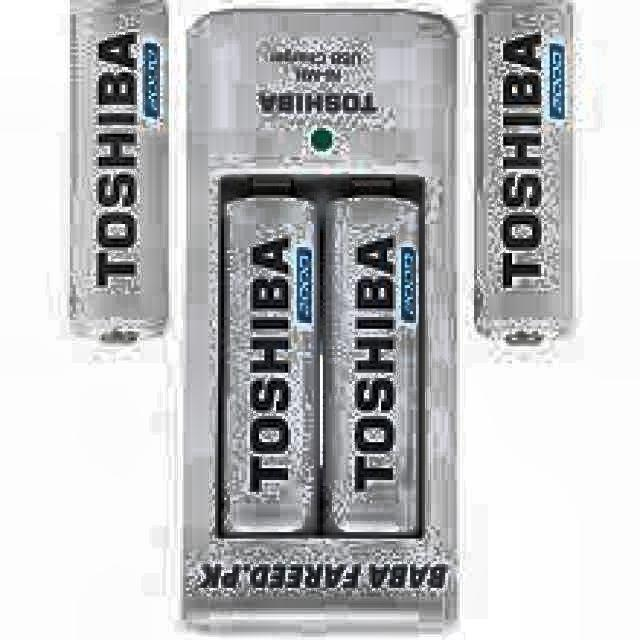battery: (324, 193, 423, 529), (477, 0, 573, 346), (73, 0, 169, 343)
